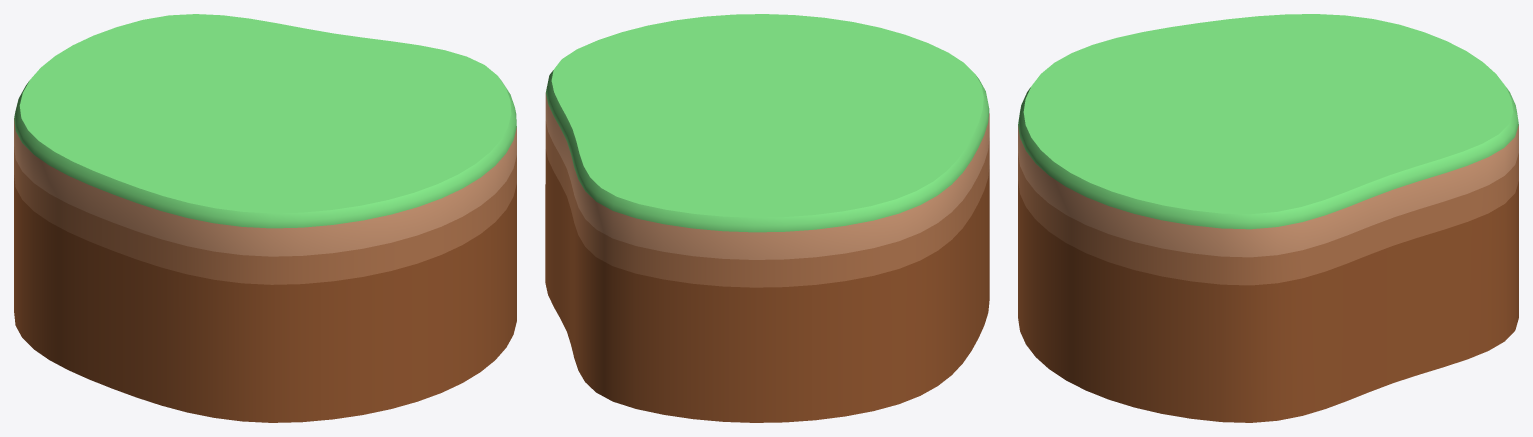
The model's file is island.fbx.
3 renders of one model, left to right at view 1: azimuth 30°, elevation 25°; view 2: azimuth 150°, elevation 25°; view 3: azimuth 270°, elevation 25°, orthographic. The views are drawn at different scales.
Parts seen in each view (by area): view 1: Cylinder.001; view 2: Cylinder.001; view 3: Cylinder.001.
Boxes of the visible parts, <box> form: Cylinder.001: <box>14,14,516,422</box>; Cylinder.001: <box>545,14,989,422</box>; Cylinder.001: <box>1018,14,1518,422</box>.
Bounding box in the file's own units: 10.24 × 4.8 × 10.56.
